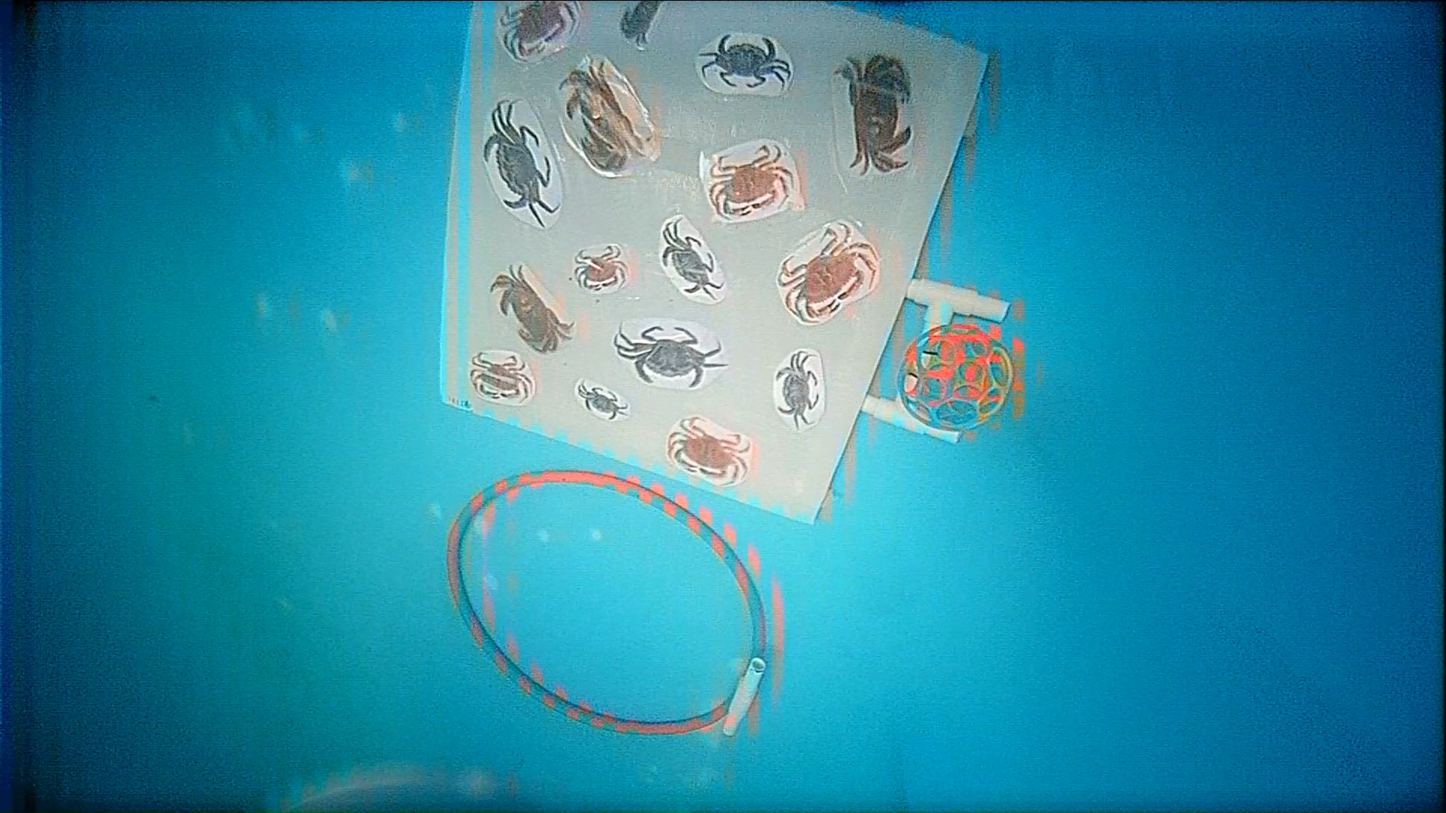GreenCrab: (484, 101, 556, 227), (615, 325, 726, 388), (703, 35, 791, 88), (661, 221, 721, 298), (776, 350, 818, 428)
